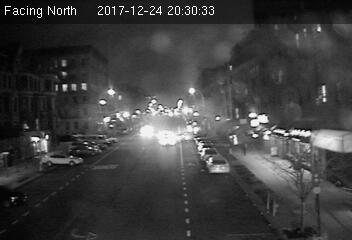car: (206, 155, 231, 175), (157, 134, 177, 146)
